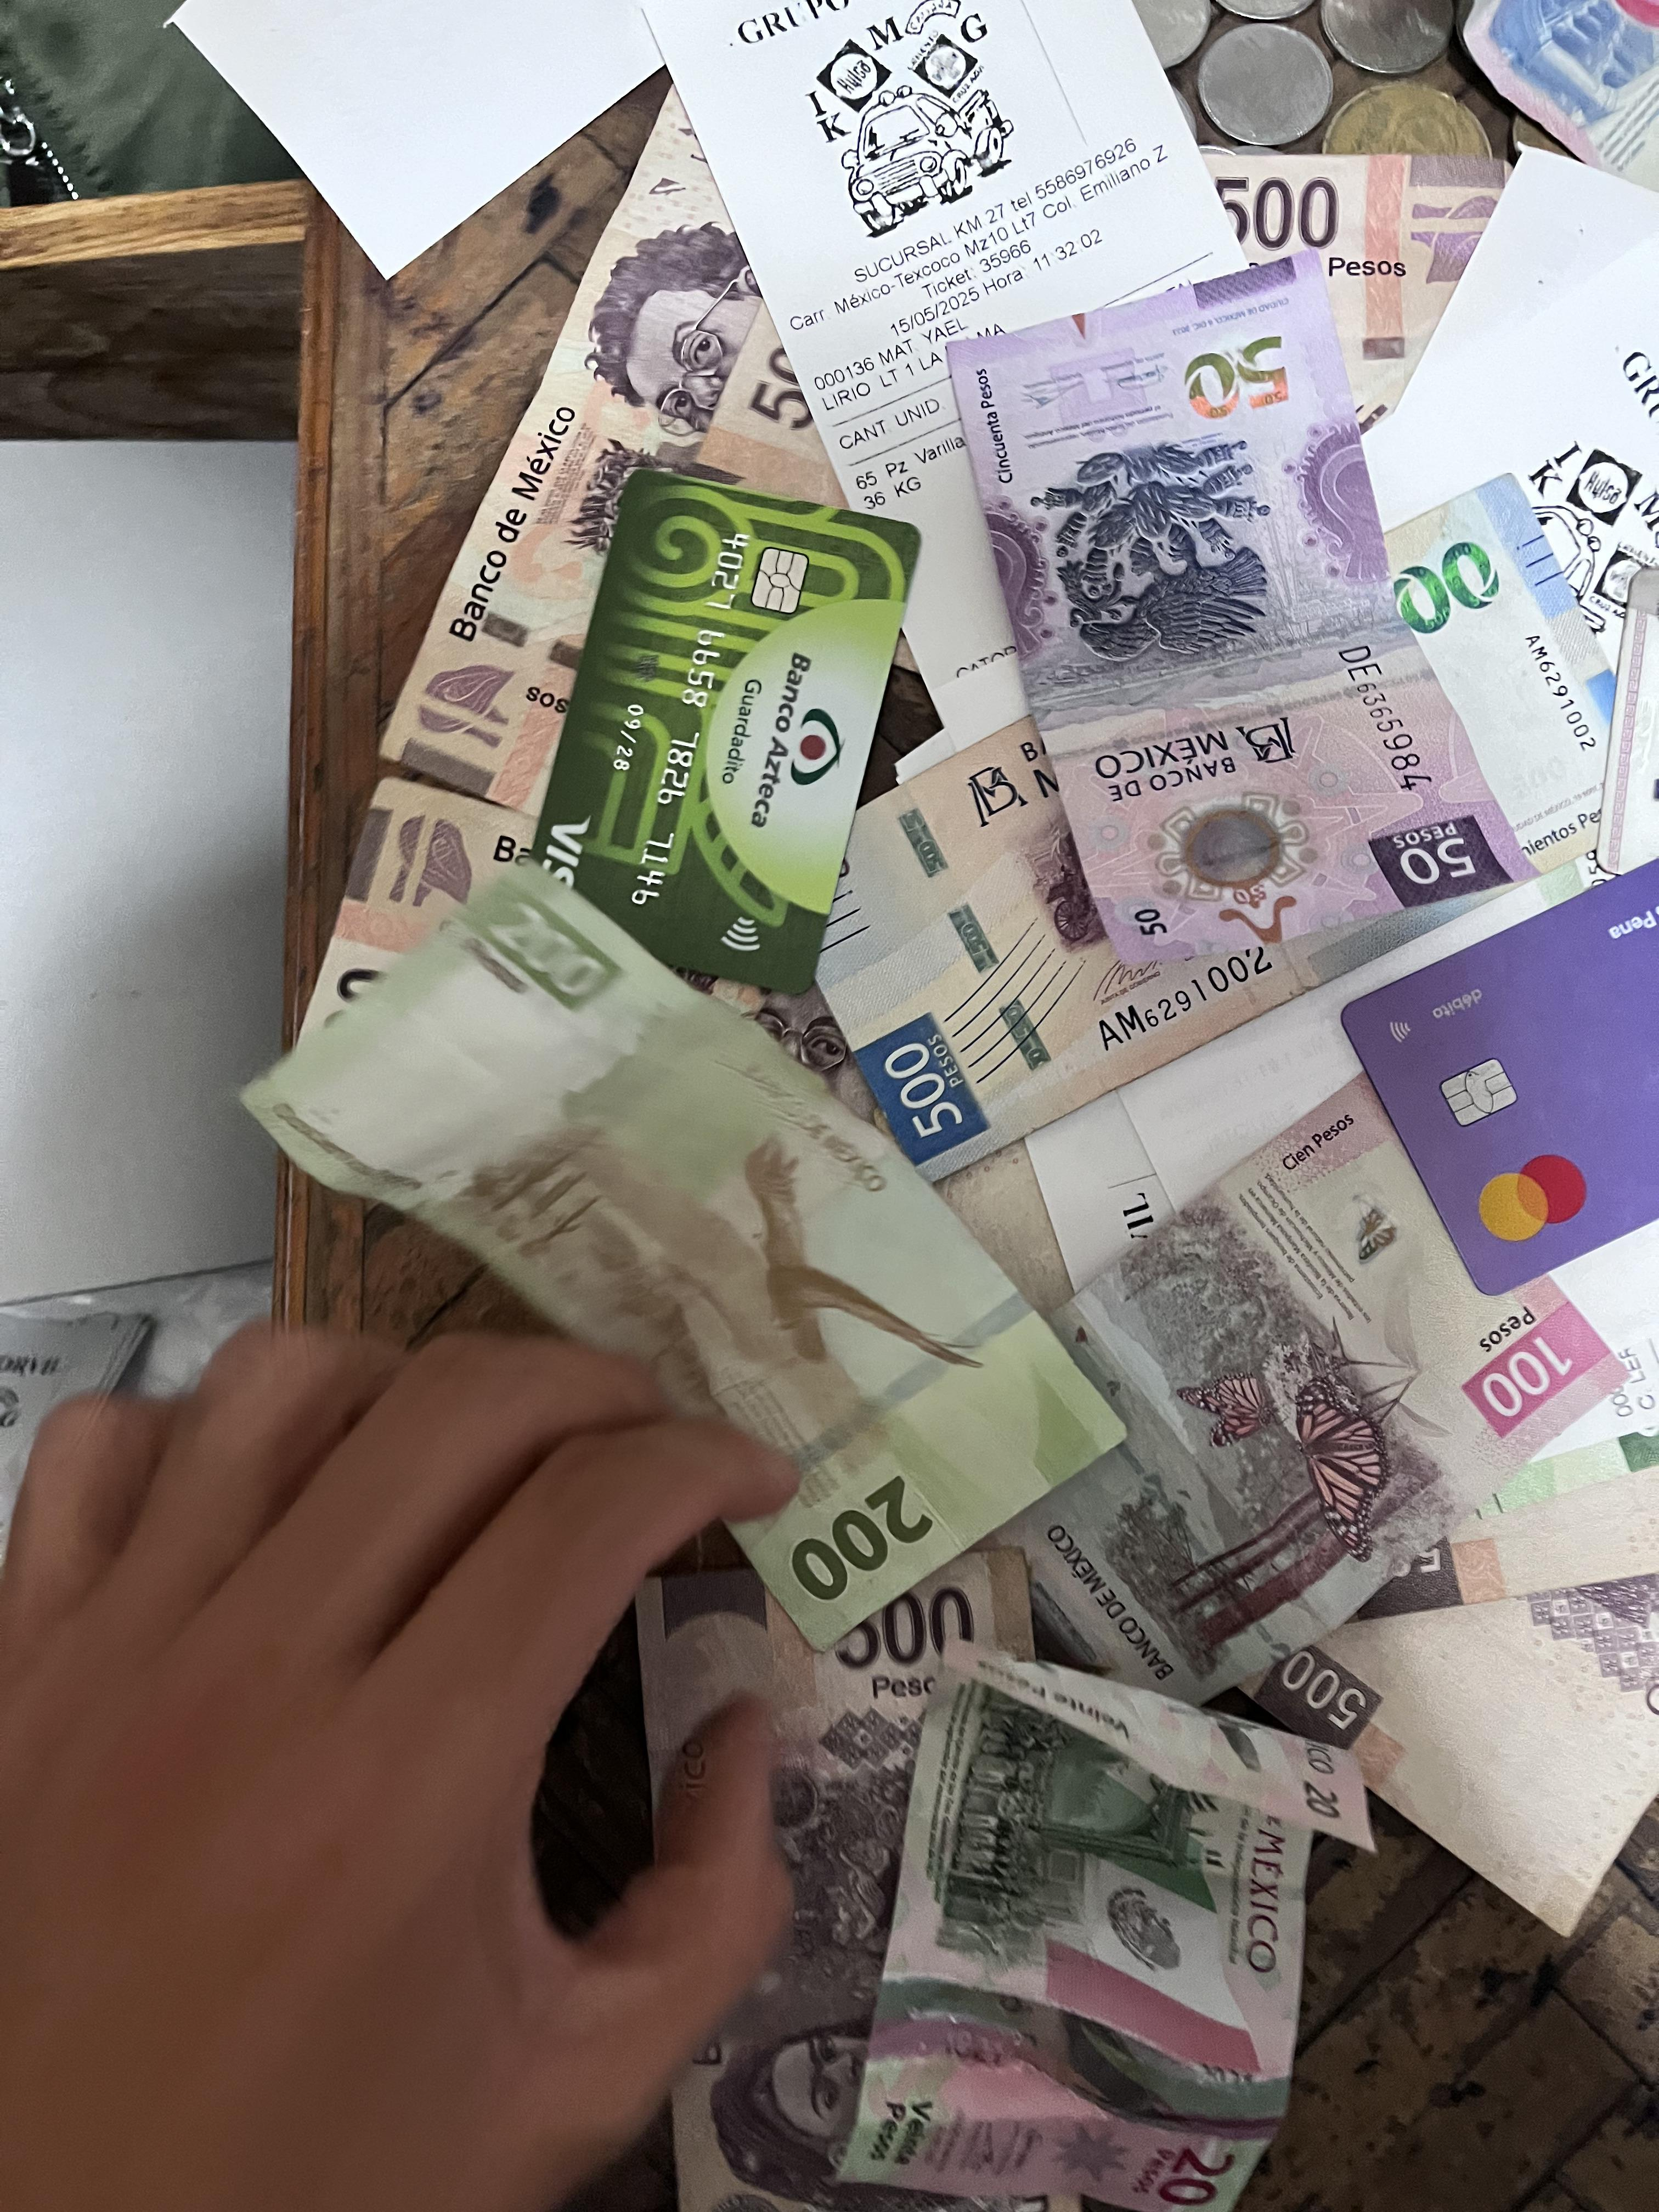20: (810, 1634, 1401, 2200)
200: (249, 845, 1145, 1669)
50: (922, 247, 1530, 963)
500: (368, 54, 882, 862), (573, 1545, 1033, 2212), (1229, 1360, 1659, 1952), (1047, 143, 1589, 411)
500 nuevo: (730, 486, 1649, 1190)
bills: (892, 1035, 1628, 1743)
